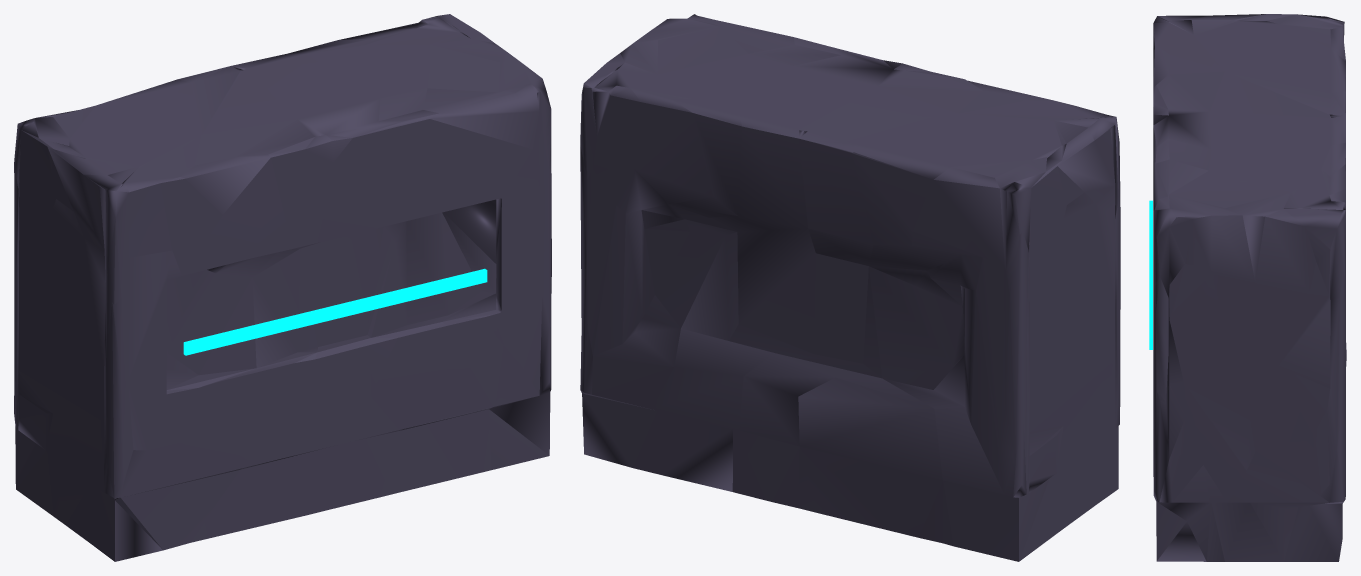
File: cover_half_city_v1_lod1.glb
The picture shows the model from 3 angles, left to right: view 1: azimuth 30°, elevation 25°; view 2: azimuth 150°, elevation 25°; view 3: azimuth 270°, elevation 25°; orthographic projection. The views are drawn at different scales.
Visible parts, largest first — view 1: object 1, inset light strip; view 2: object 1; view 3: object 1, inset light strip.
Part boxes in pixels (<box>): object 1: <box>14,14,551,561</box>; inset light strip: <box>183,268,487,355</box>; object 1: <box>580,14,1120,561</box>; object 1: <box>1153,14,1346,561</box>; inset light strip: <box>1149,200,1152,349</box>.
Bounding box in the file's own units: 0.9974 × 0.7996 × 0.4113.
